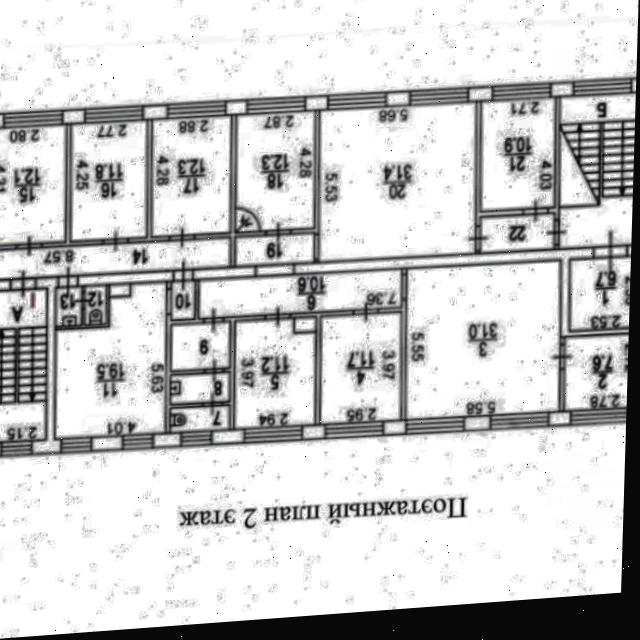room: (396, 260, 570, 418), (310, 102, 485, 259), (55, 282, 165, 440), (558, 89, 636, 248), (197, 266, 403, 319), (237, 109, 313, 232), (0, 238, 232, 278), (154, 116, 230, 238), (70, 121, 145, 242), (233, 316, 314, 428), (320, 310, 400, 423), (480, 97, 554, 212), (0, 127, 64, 247), (0, 287, 47, 440), (562, 330, 629, 408), (569, 252, 631, 330), (167, 321, 231, 371), (477, 212, 557, 249), (233, 234, 315, 265), (169, 372, 230, 404), (168, 406, 230, 432), (172, 280, 195, 321), (56, 288, 80, 326), (84, 286, 104, 325)
